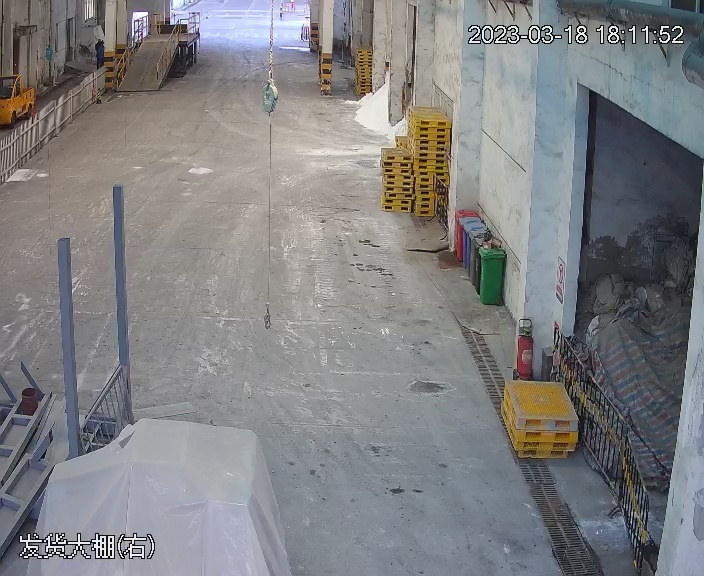people: (94, 38, 105, 66)
